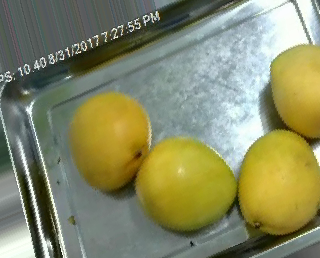Mango: (133, 133, 238, 233), (237, 126, 319, 236), (67, 90, 150, 192), (263, 36, 320, 141)
